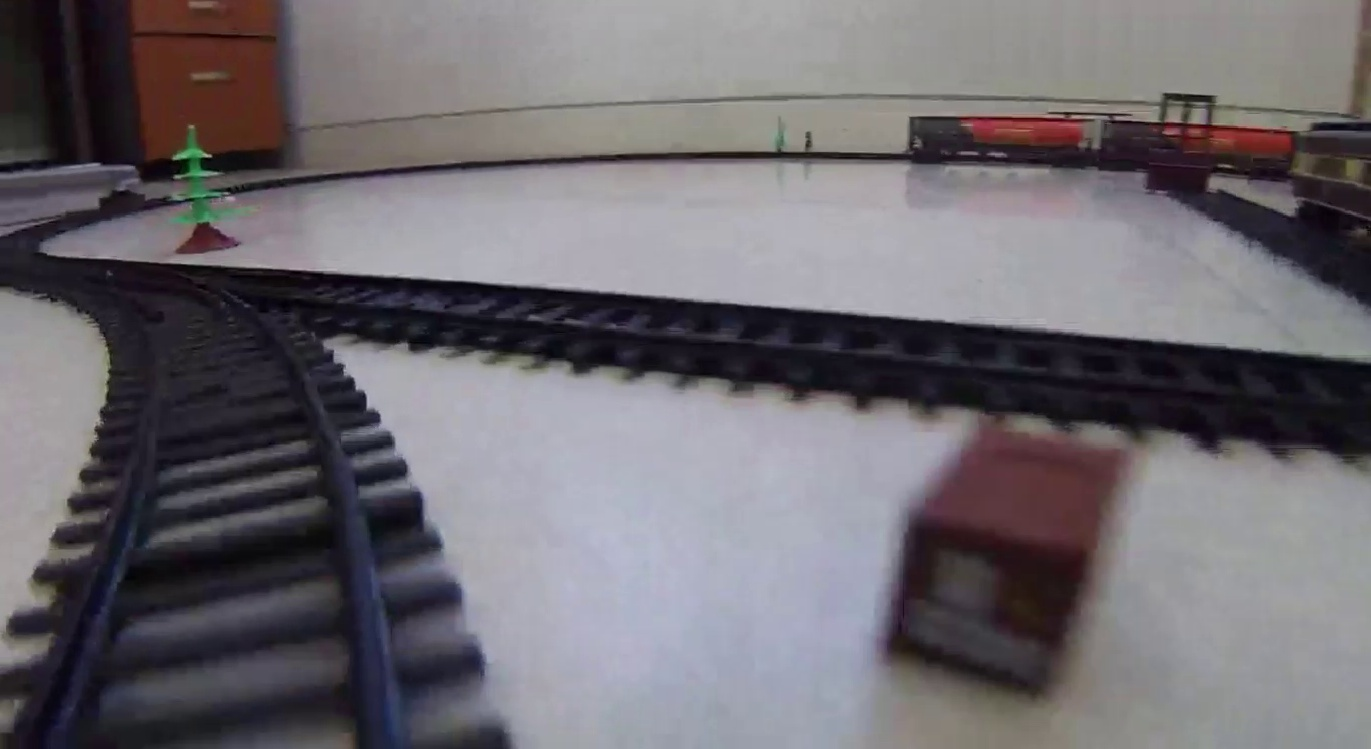box: (898, 422, 1130, 689)
tree: (168, 121, 245, 253)
